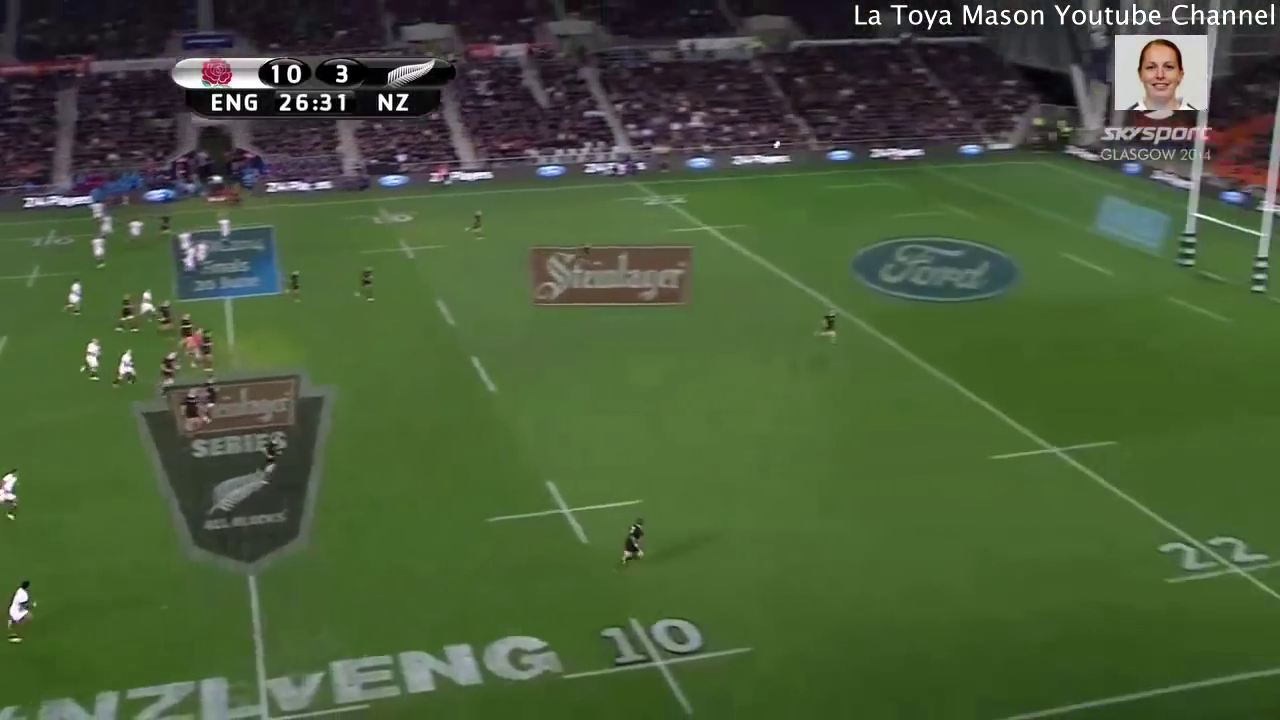10_metre: (556, 604, 754, 712), (480, 476, 649, 551), (354, 234, 447, 264), (345, 199, 416, 230)
player: (1, 576, 41, 653), (614, 517, 649, 571), (1, 463, 26, 528), (349, 264, 381, 312), (77, 337, 103, 388), (257, 433, 283, 480), (111, 293, 138, 336), (813, 307, 839, 347), (177, 387, 200, 432), (157, 347, 177, 394), (149, 296, 172, 336), (62, 280, 85, 317), (116, 347, 136, 388), (280, 265, 302, 299), (202, 382, 221, 419), (464, 207, 484, 242), (89, 237, 109, 271), (136, 285, 153, 324), (153, 209, 173, 242), (199, 331, 214, 368), (215, 216, 233, 244), (91, 197, 105, 233), (126, 218, 143, 246), (100, 212, 114, 236), (176, 312, 191, 334)
post: (1174, 144, 1280, 300)
